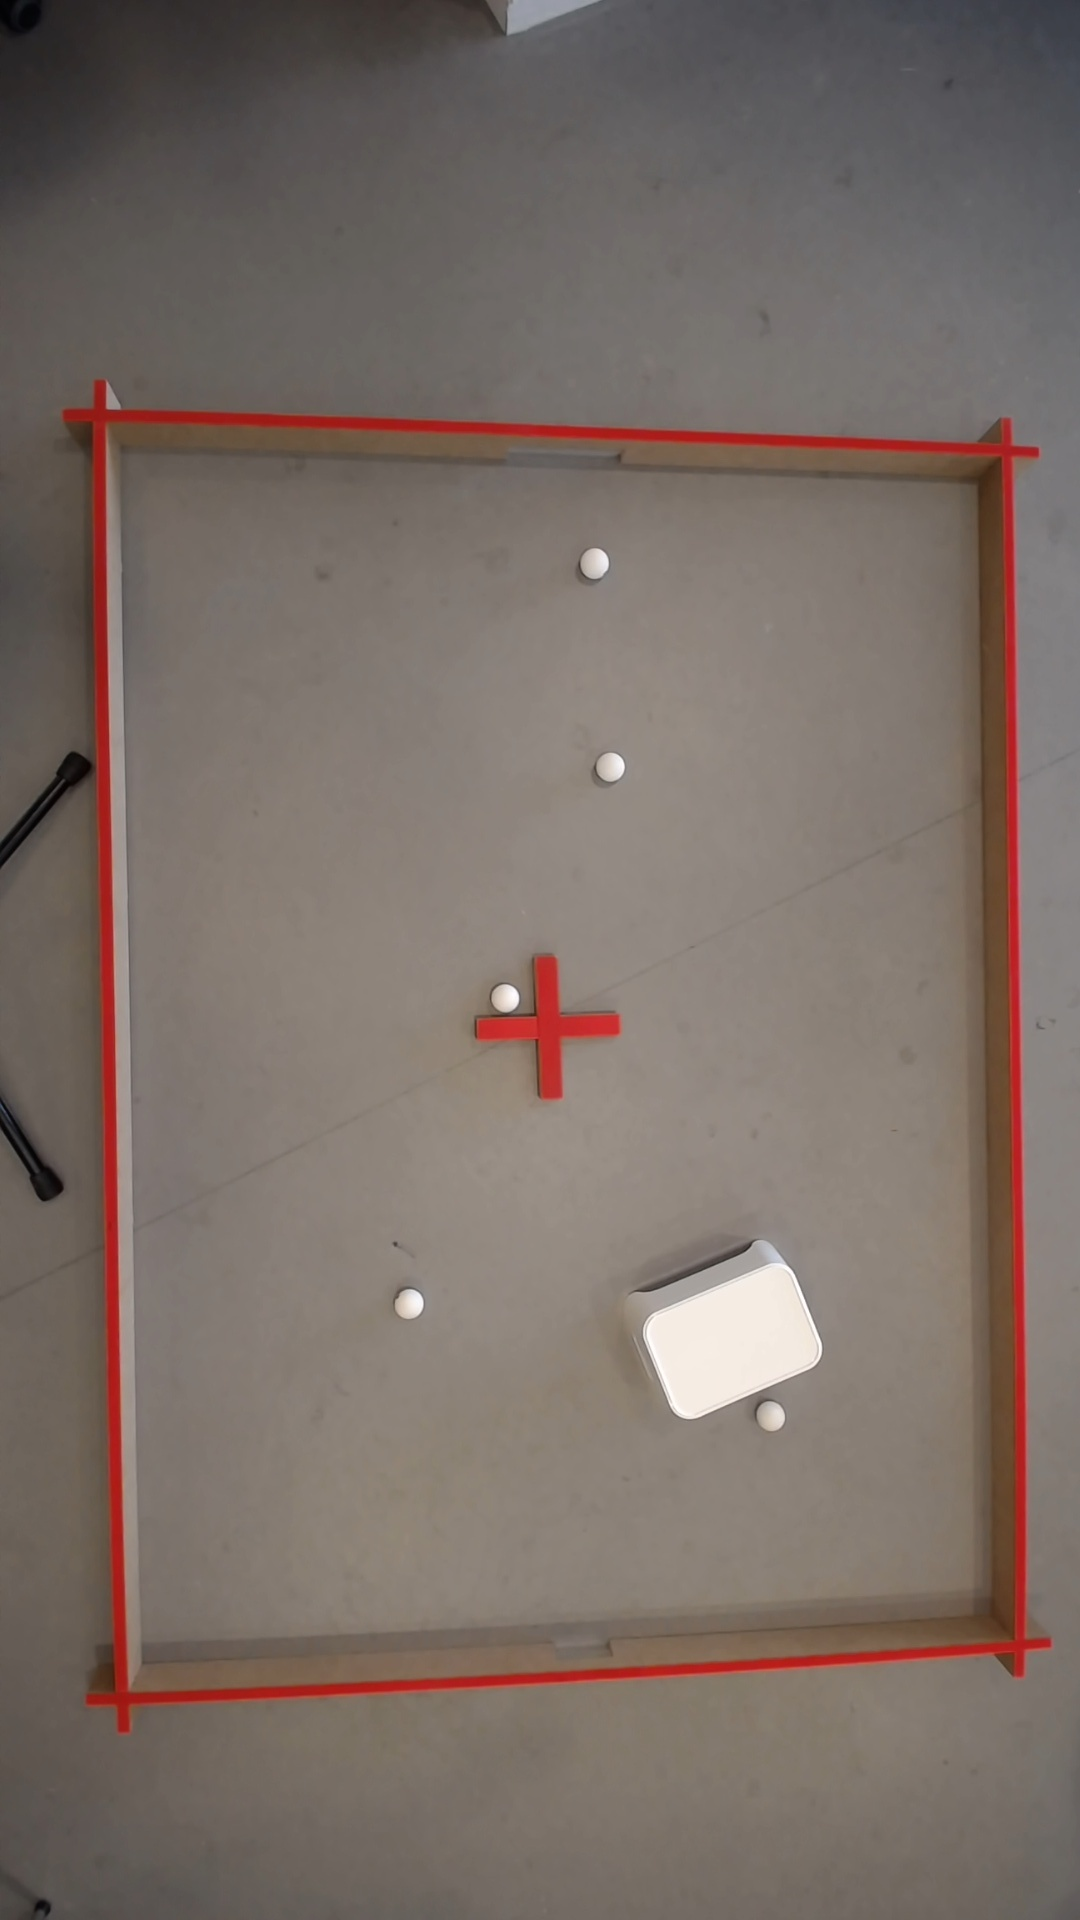balls: (489, 980, 524, 1015), (596, 748, 629, 782), (396, 1286, 427, 1321), (582, 543, 613, 579)
car: (761, 1402, 789, 1431)
